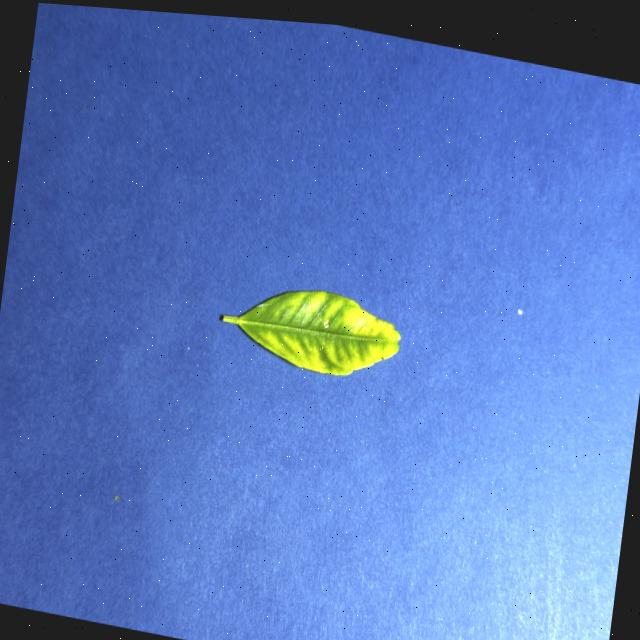greening: (221, 291, 399, 374)
